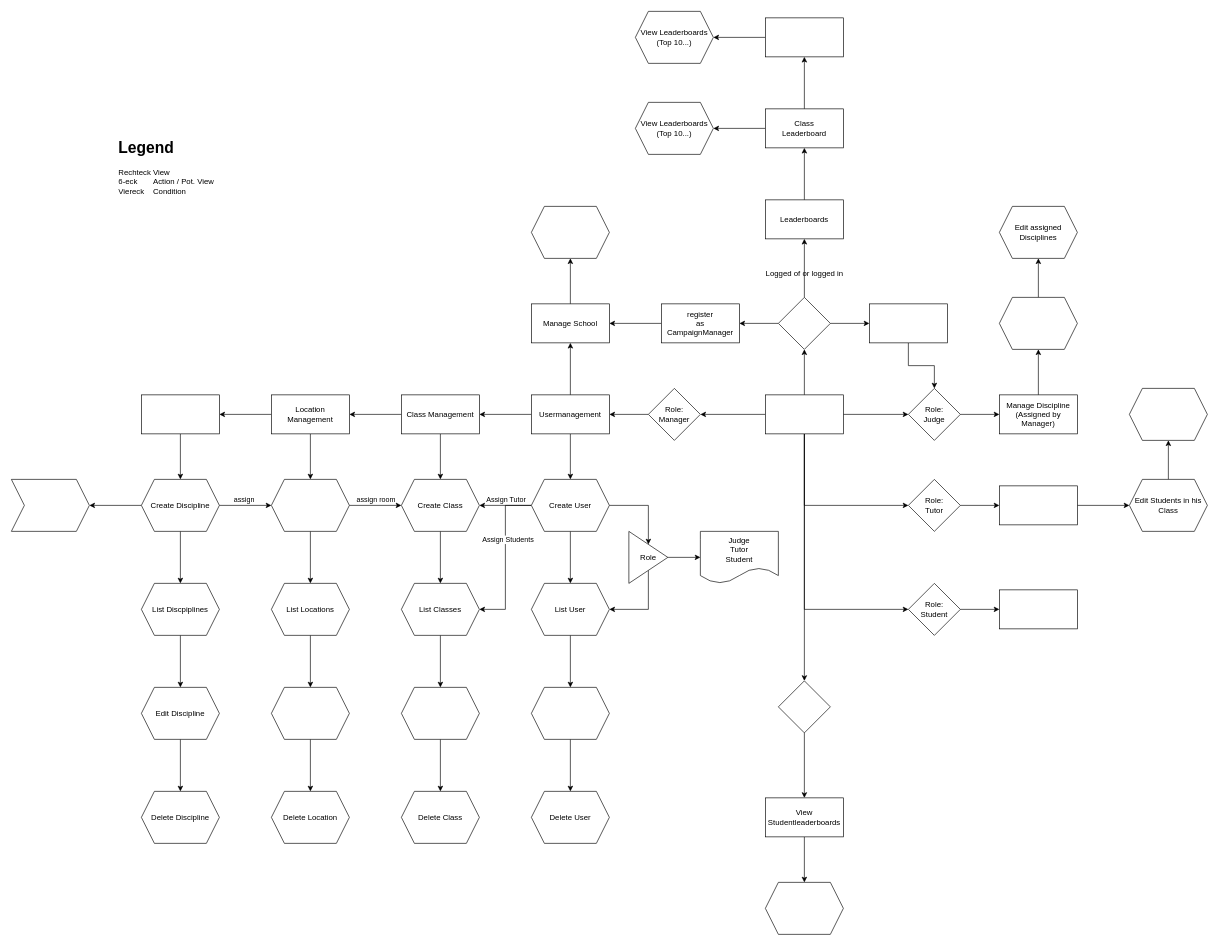
This 1219x946 diagram has some shape labels left out. The shapes that lost their labels are listed below. From the top down, each one's centre as x and y in pixels, then its label:
the point at 804,37: Discipline Leaderboard
the point at 570,232: Edit School
the point at 804,323: Logged off
the point at 908,323: login
the point at 1038,323: Give Student Points
the point at 180,414: Discipline Managament
the point at 804,414: Home
the point at 1168,414: Assign Students to DIsciplines
the point at 50,505: Assign User with With Role Judge
the point at 310,505: Create Location
the point at 1038,505: Manage Class (Assigned by Manager)
the point at 310,713: Edit Location
the point at 440,713: Edit Class
the point at 570,713: Edit User
the point at 804,706: Role: Any
the point at 804,908: Filter: Class or/and Discipline
